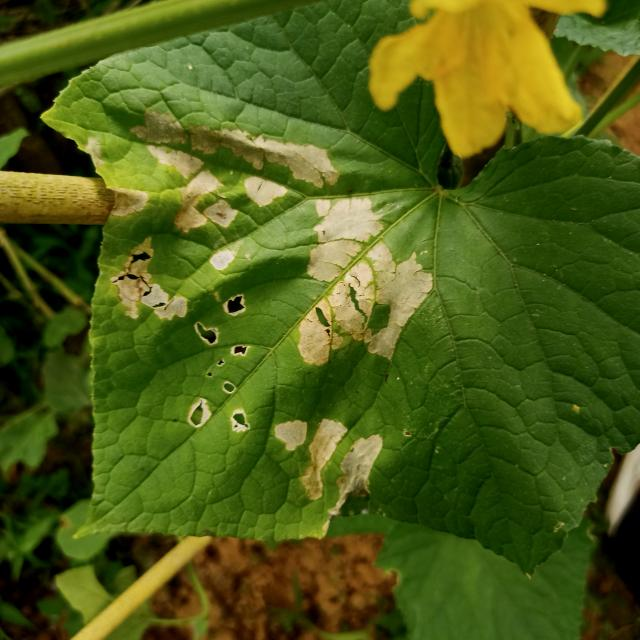disease_cucumber: (110, 107, 433, 520)
